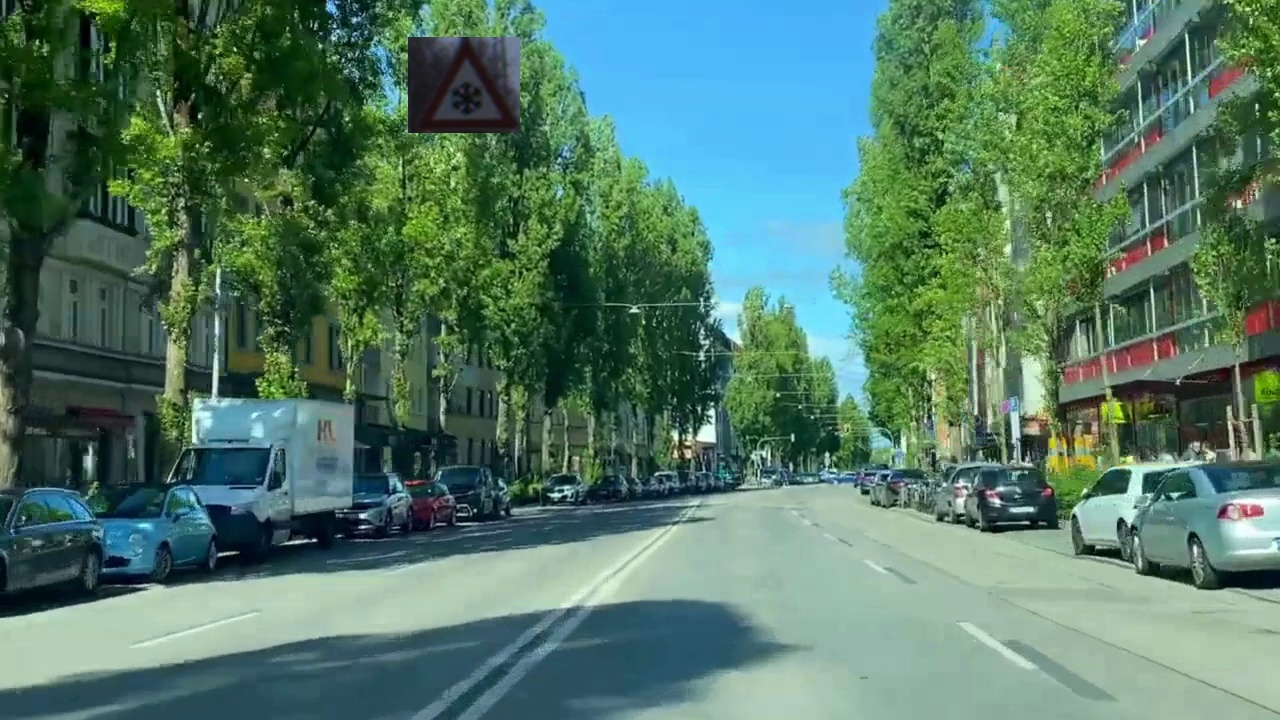Ice/snow: (408, 37, 520, 133)
